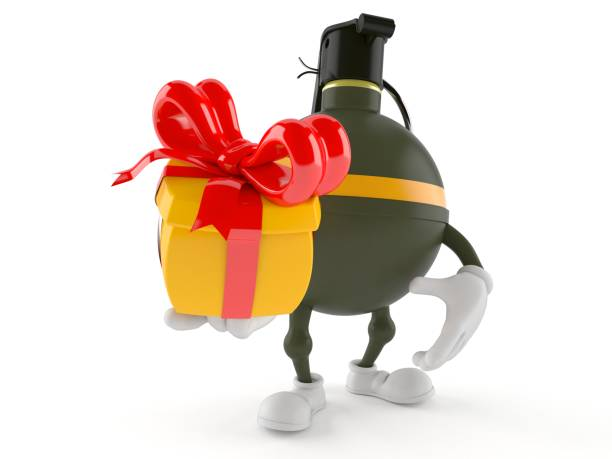e1: (289, 14, 447, 305)
